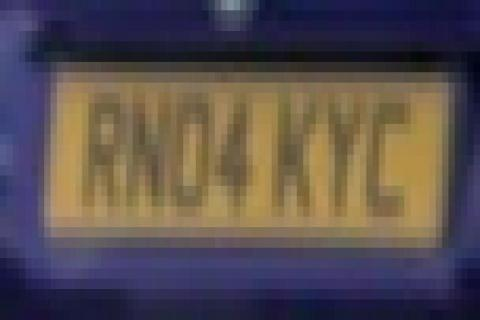LicensePlate: (35, 38, 455, 258)
